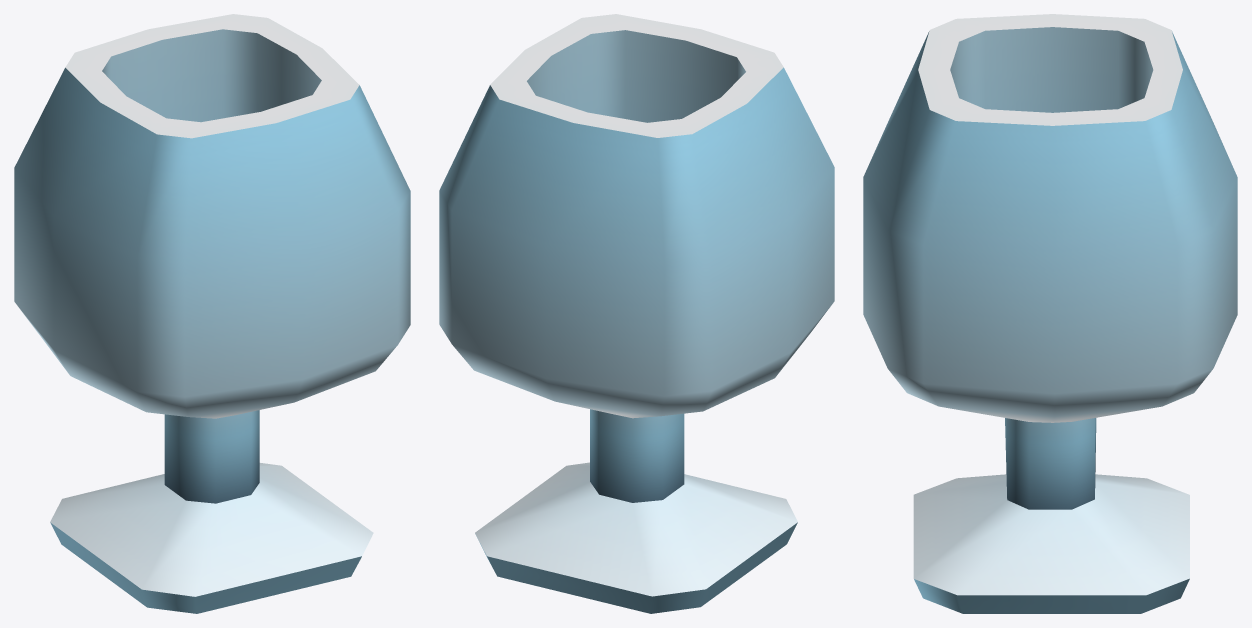
The model's file is glass_wine_full.fbx.
3 views of the same model, side by side, from view 1: azimuth 30°, elevation 25°; view 2: azimuth 150°, elevation 25°; view 3: azimuth 270°, elevation 25° (orthographic). The views are drawn at different scales.
Parts seen in each view (by area): view 1: glass_wine_full; view 2: glass_wine_full; view 3: glass_wine_full.
Part boxes in pixels (bbox=[...]): glass_wine_full: bbox=[14, 14, 410, 613]; glass_wine_full: bbox=[439, 14, 834, 613]; glass_wine_full: bbox=[863, 14, 1237, 613].
Bounding box in the file's own units: 24.13 × 34.9 × 24.16.
